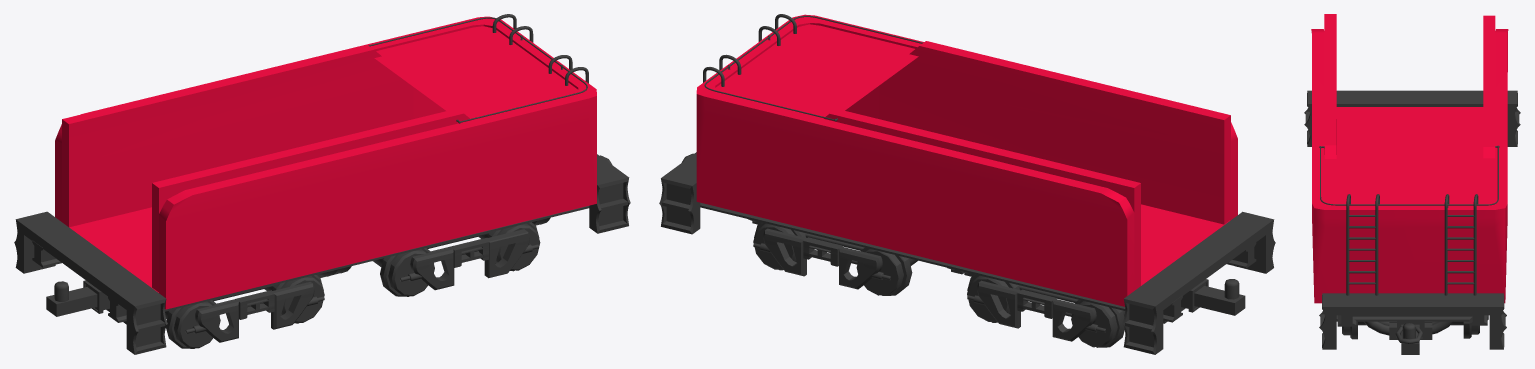
Rendered from train_back.fbx.
3 renders of one model, left to right at view 1: azimuth 30°, elevation 25°; view 2: azimuth 150°, elevation 25°; view 3: azimuth 270°, elevation 25°, orthographic. The views are drawn at different scales.
Parts seen in each view (by area): view 1: polySurface1212; view 2: polySurface1212; view 3: polySurface1212.
Part boxes in pixels (x1,y1,x2,y2): polySurface1212: (14, 14, 630, 354); polySurface1212: (659, 14, 1275, 354); polySurface1212: (1304, 14, 1520, 354).
Size of the model in its own units: 1055 by 344 by 403.
Materials: 2 (1 with a texture image).
